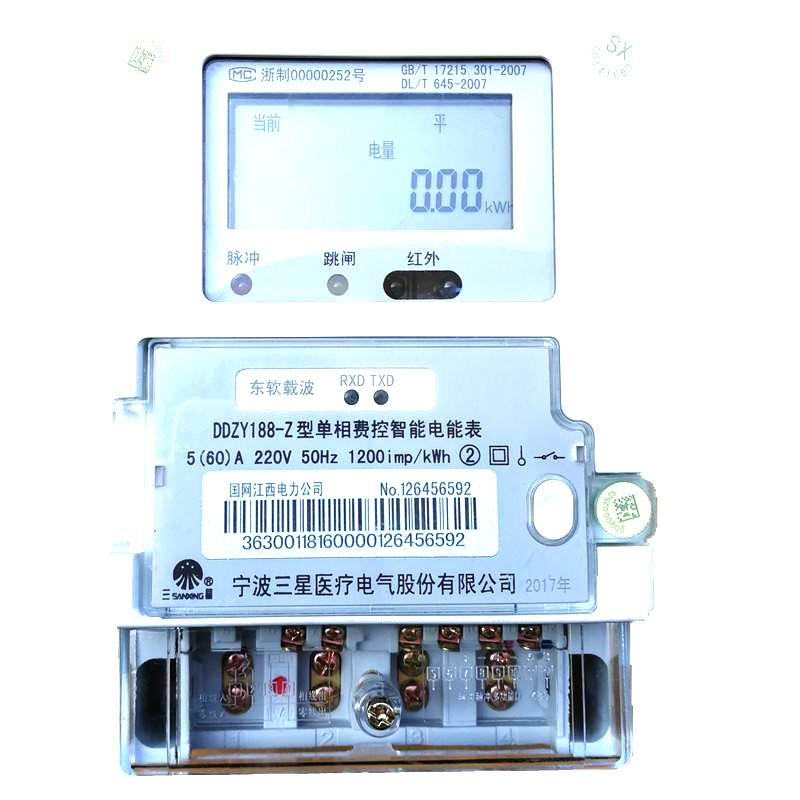digital: (94, 27, 652, 627)
